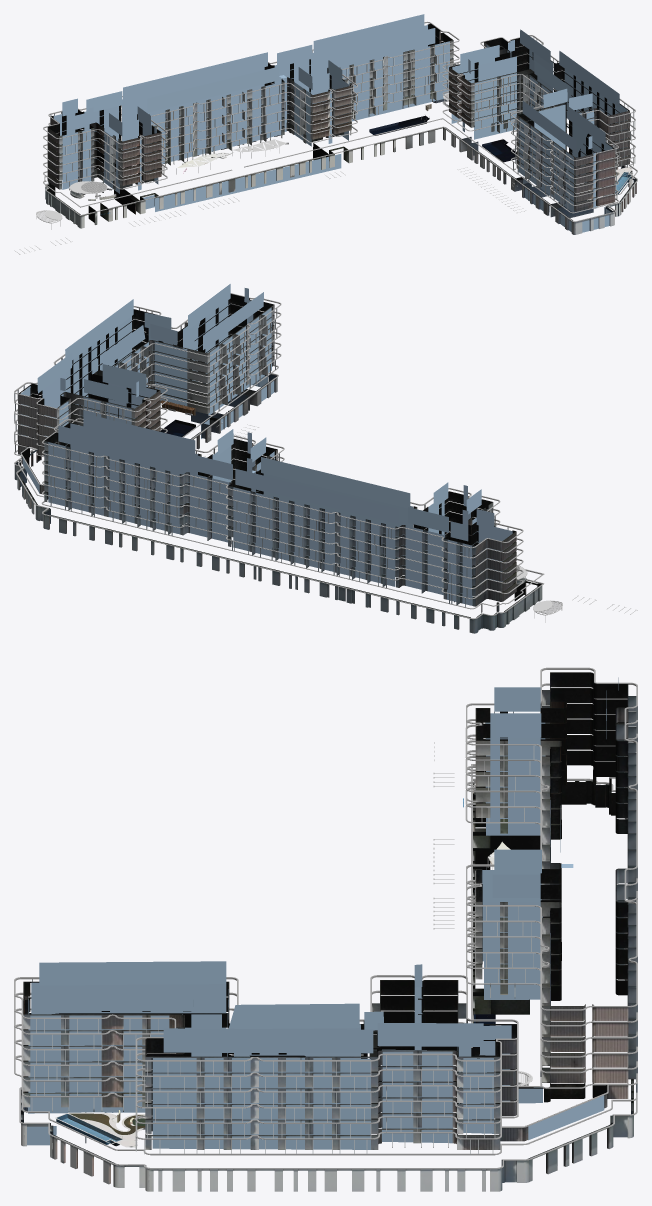
Rendered from MAG_11_build_C.glb.
The picture shows the model from 3 angles, top to bottom: view 1: azimuth 30°, elevation 25°; view 2: azimuth 150°, elevation 25°; view 3: azimuth 270°, elevation 25°; orthographic projection. The views are drawn at different scales.
Parts seen in each view (by area): view 1: C_Build; view 2: C_Build; view 3: C_Build.
Part boxes in pixels (bbox=[...]): C_Build: bbox=[14, 14, 637, 254]; C_Build: bbox=[14, 284, 637, 633]; C_Build: bbox=[14, 667, 637, 1191].
Size of the model in its own units: 260 by 43.68 by 152.
9 materials, 1 textured.
